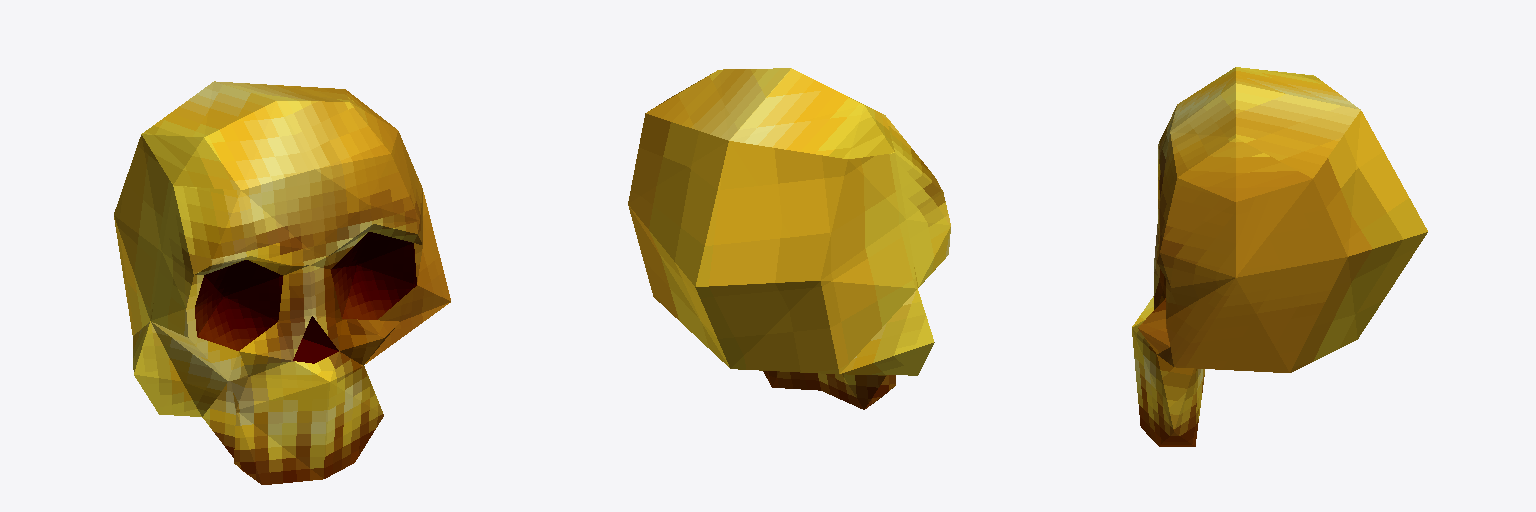
3 views of the same model, side by side, from view 1: azimuth 30°, elevation 25°; view 2: azimuth 150°, elevation 25°; view 3: azimuth 270°, elevation 25° (orthographic).
Visible parts, largest first — view 1: skull, eyes; view 2: skull; view 3: skull.
Boxes of the visible parts, box(x1,y1,x2,y2) form: skull: box(114, 81, 450, 484); eyes: box(195, 232, 416, 363); skull: box(628, 68, 950, 409); skull: box(1132, 67, 1427, 446).
Bounding box in the file's own units: 1.68 × 1.91 × 1.49.
Materials: 2 (2 with a texture image).